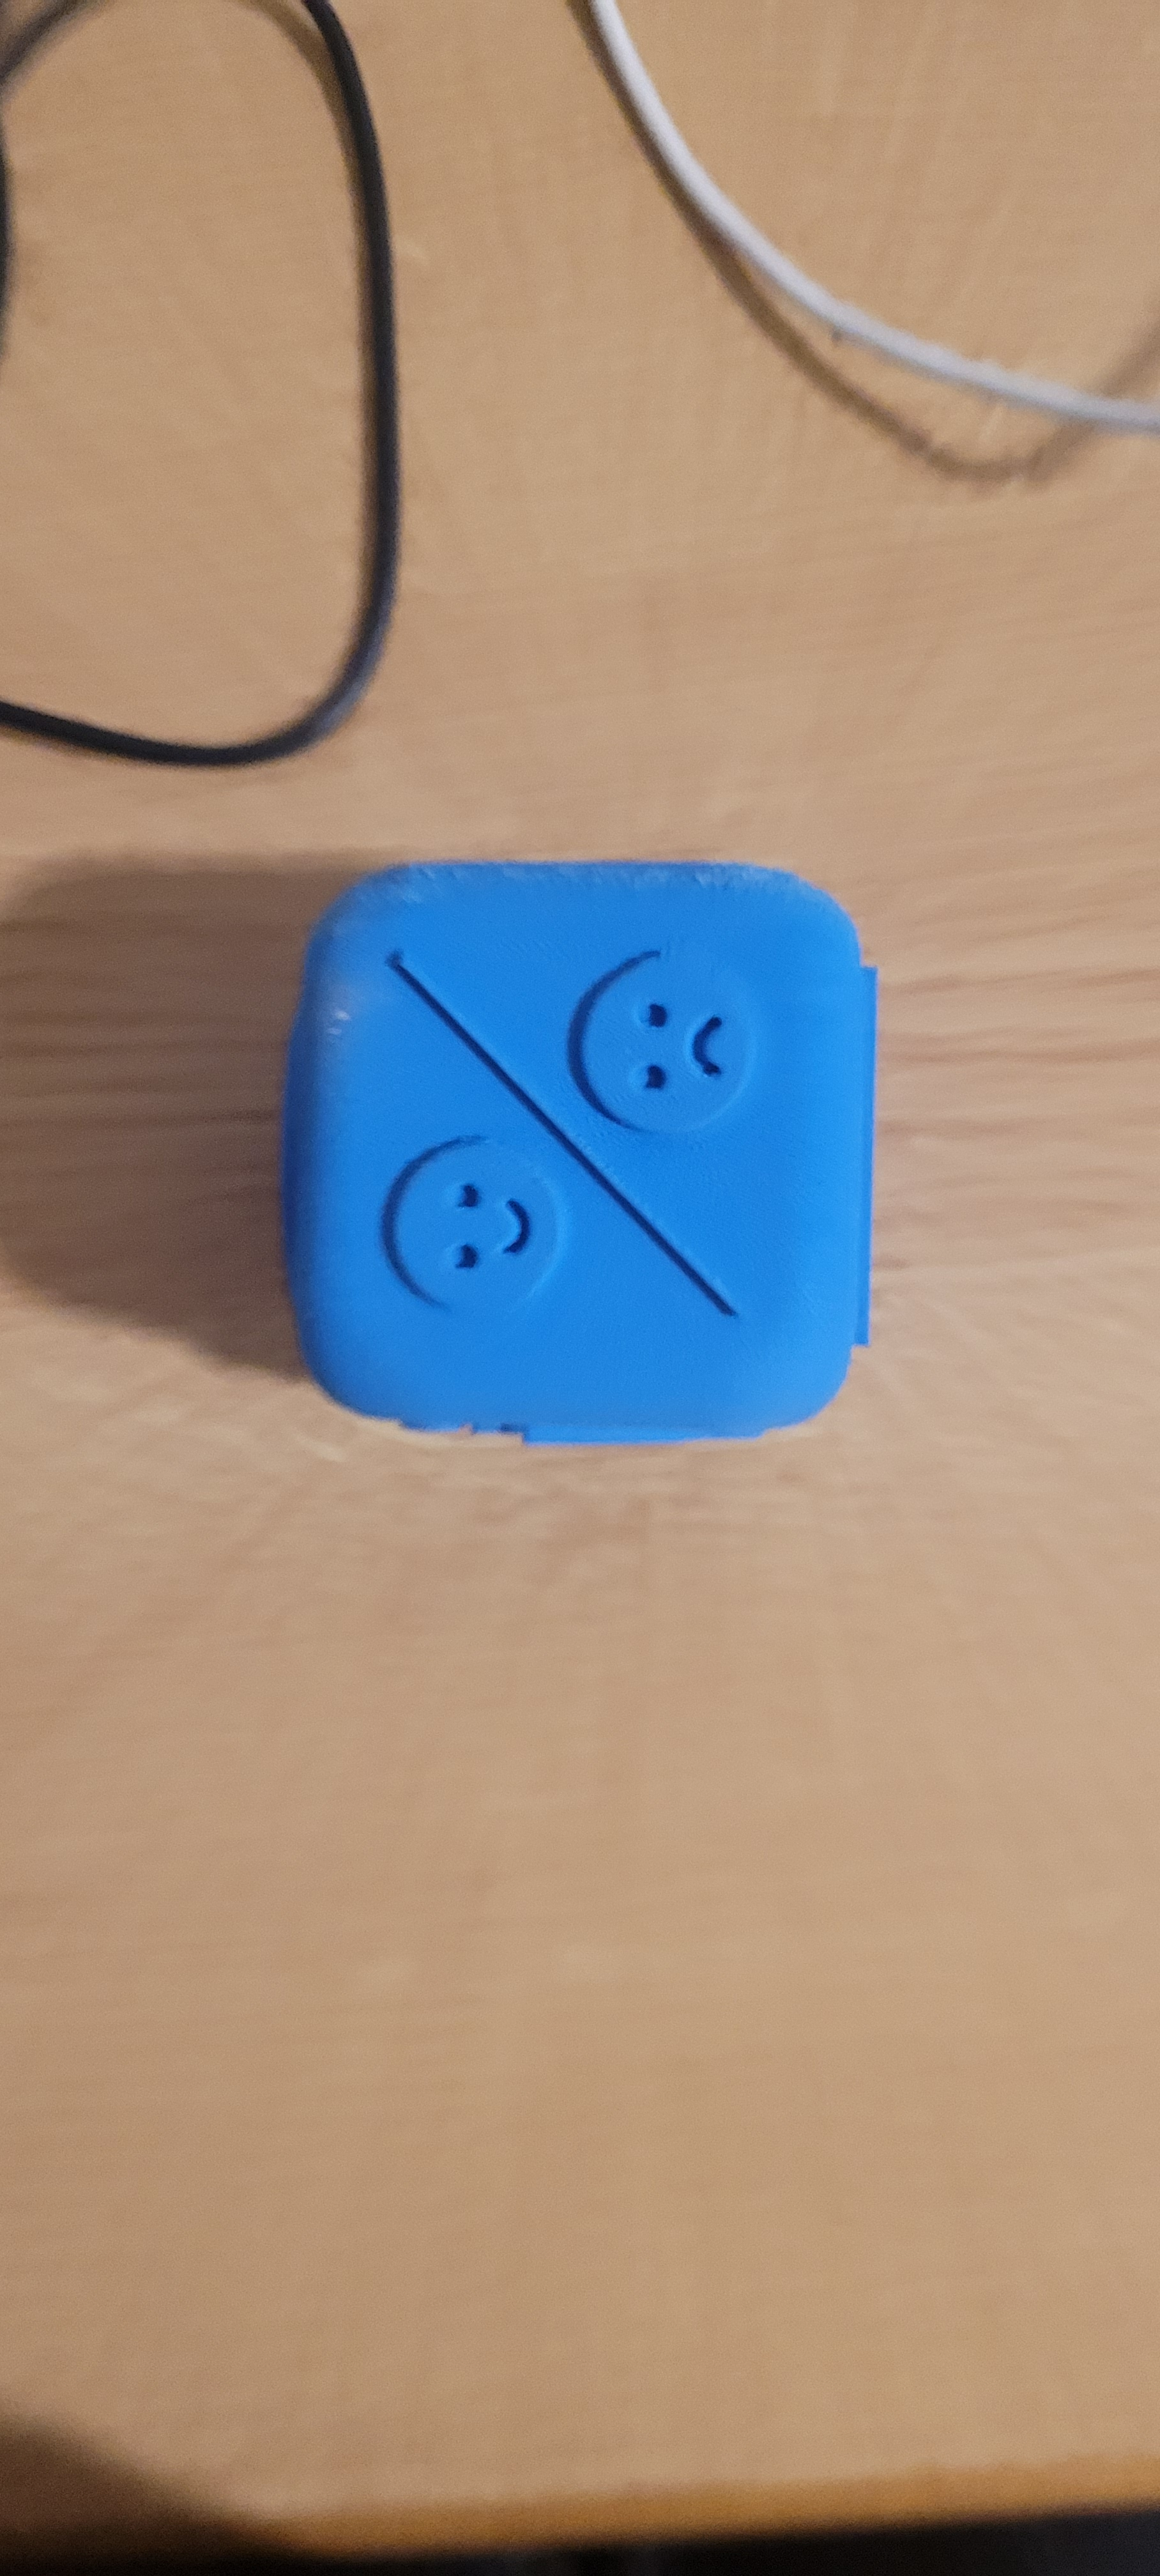Like/Dislike: (281, 789, 887, 1480)
